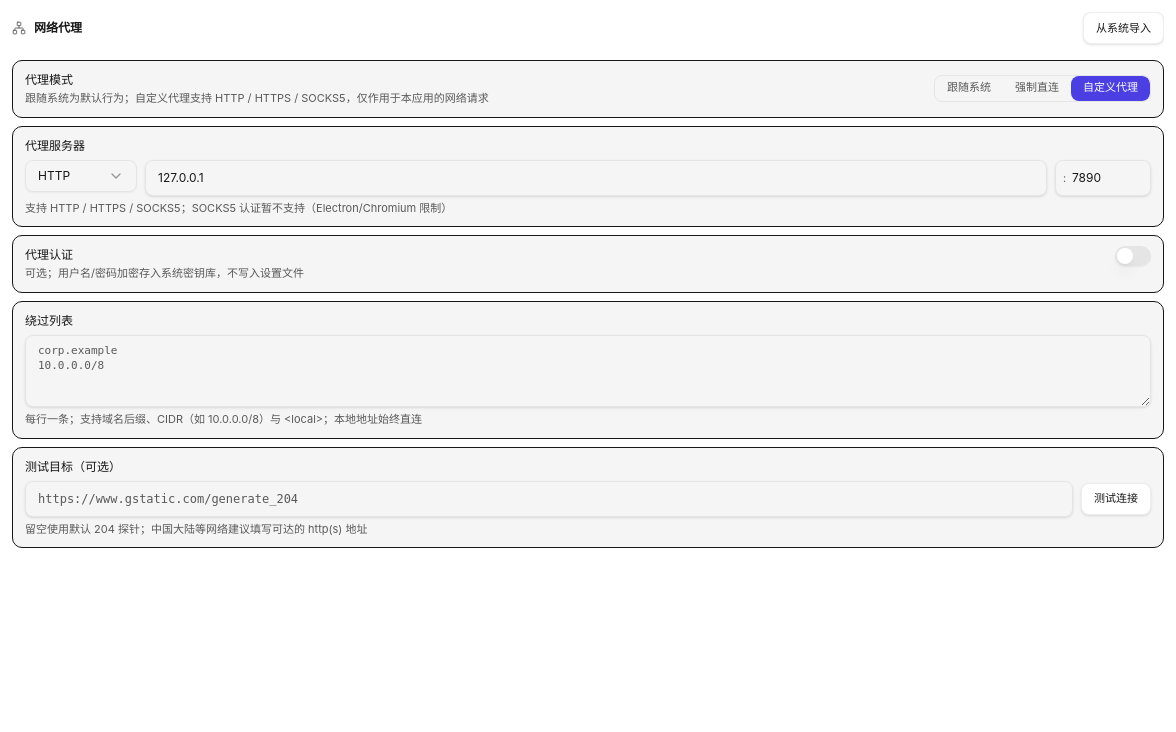
Test: ProxySection › 测试归因：代理不可达显示对应文案
Click the button "测试连接" at (1116, 499), box [1081,483,1151,515]
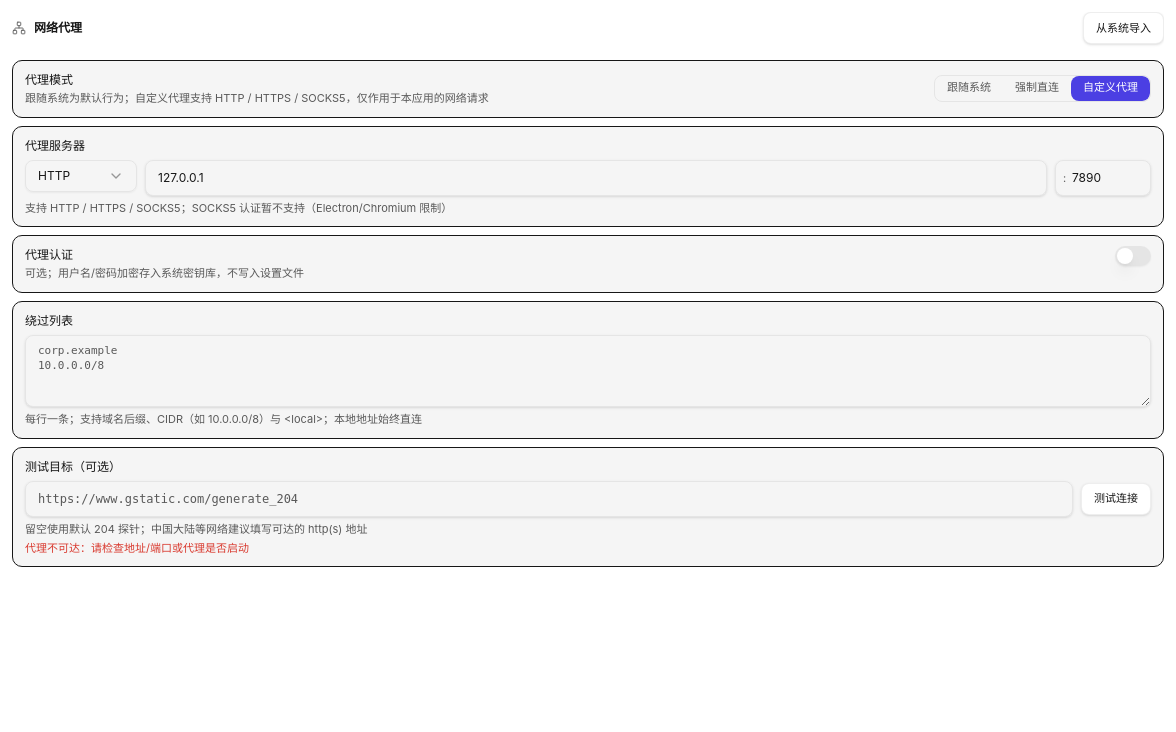
Result: the text "代理不可达：请检查地址/端口或代理是否启动" is shown at [25,541,249,555]
